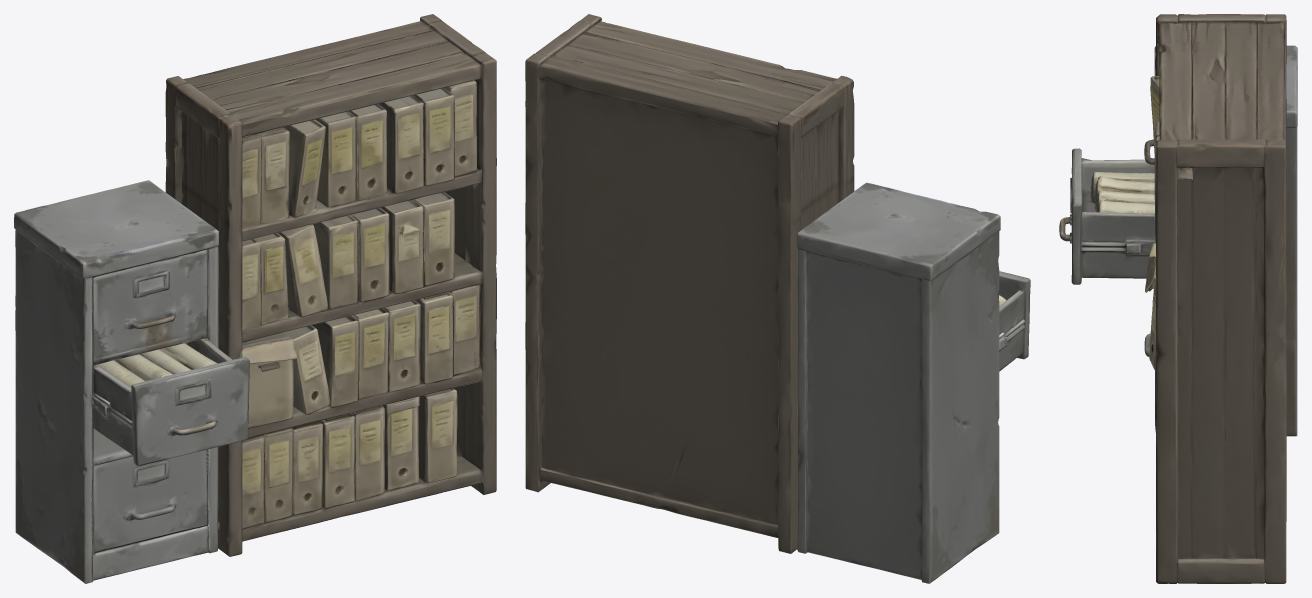
File: silo81_filing.glb
3 views of the same model, side by side, from view 1: azimuth 30°, elevation 25°; view 2: azimuth 150°, elevation 25°; view 3: azimuth 270°, elevation 25° (orthographic).
Parts seen in each view (by area): view 1: tripo_node_ba291459-4925-4b2b-be26-3ecbbf229002; view 2: tripo_node_ba291459-4925-4b2b-be26-3ecbbf229002; view 3: tripo_node_ba291459-4925-4b2b-be26-3ecbbf229002.
Boxes of the visible parts, x1,y1,x2,y2 form: tripo_node_ba291459-4925-4b2b-be26-3ecbbf229002: (14,14,496,583); tripo_node_ba291459-4925-4b2b-be26-3ecbbf229002: (525,14,1030,583); tripo_node_ba291459-4925-4b2b-be26-3ecbbf229002: (1059,14,1297,583).
Bounding box in the file's own units: 0.9801 × 0.9687 × 0.4766.
1 material, 1 textured.
